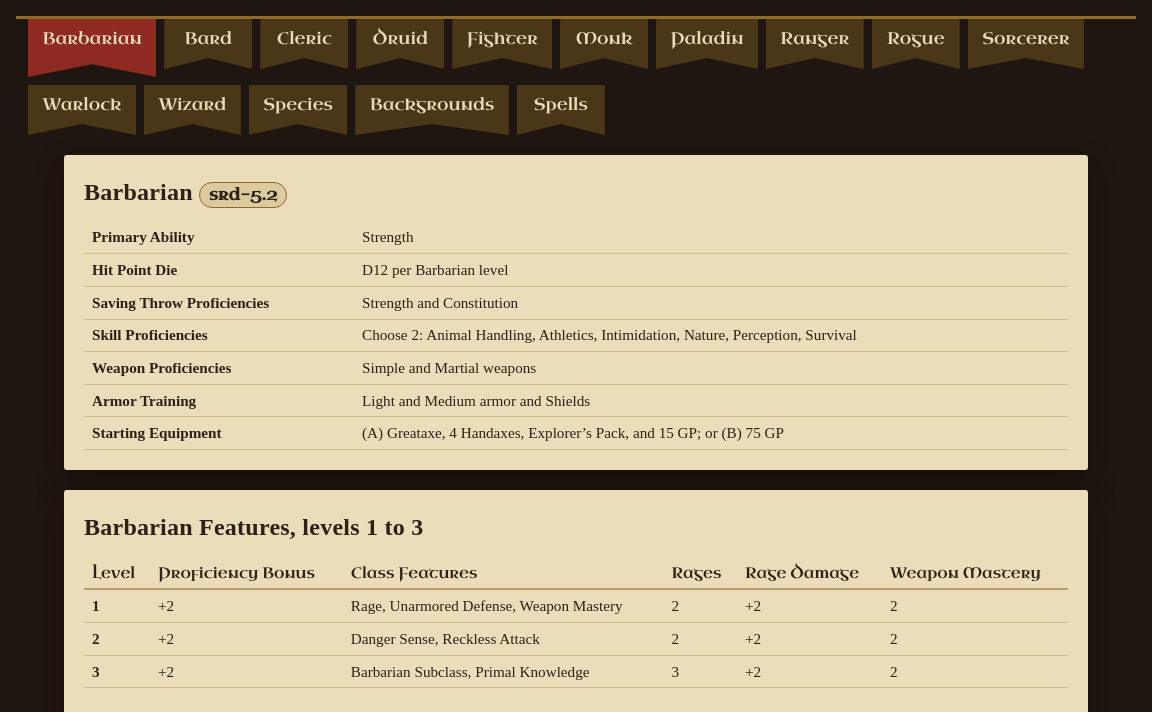
/dev/classes › shows the imported spells by level, with their heading lines and what mechanics were read
Click the tab "Spells" at (561, 110), box [517, 85, 605, 135]
(page scrolled)
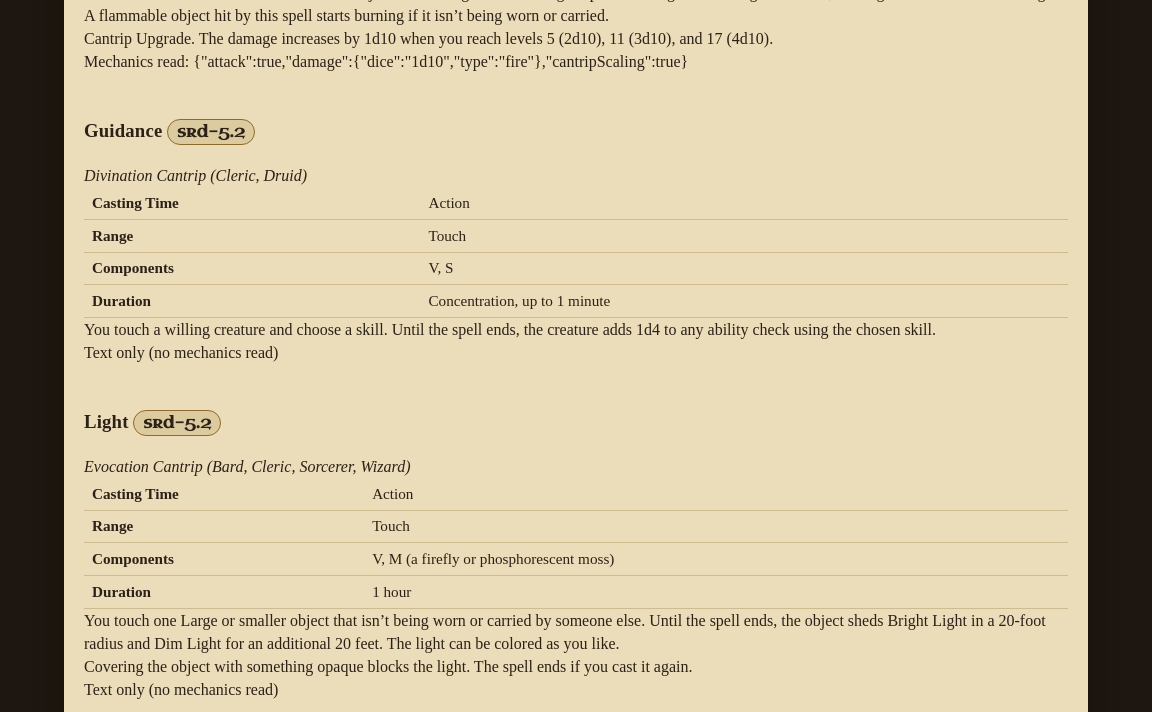
Expected: the row "Components V, M (a firefly or phosphorescent moss)" is shown, [84, 543, 1068, 575]
Expected: the text "Text only (no mechanics read)" below "Divination Cantrip (Cleric, Druid)" is shown, [84, 344, 278, 361]
